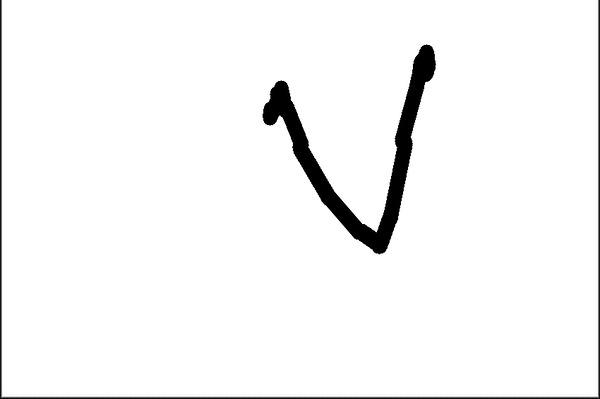V: (250, 38, 452, 254)
